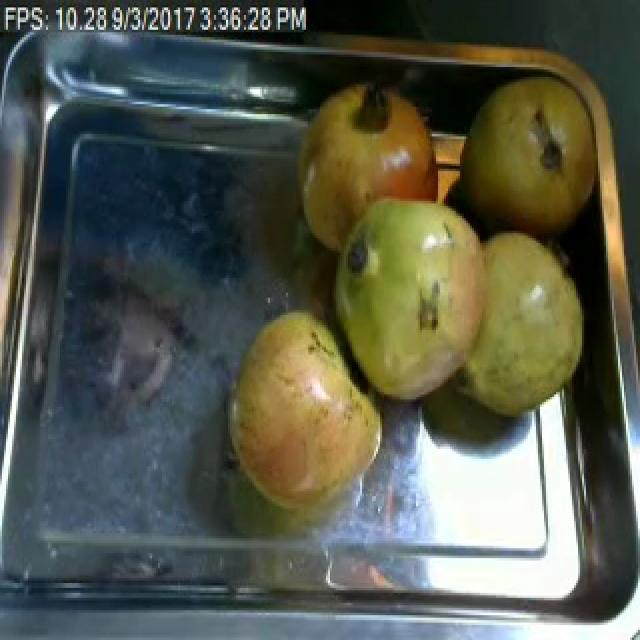fruit: (316, 184, 504, 419), (218, 295, 392, 526), (444, 218, 590, 429), (452, 65, 608, 238), (288, 74, 444, 216)
